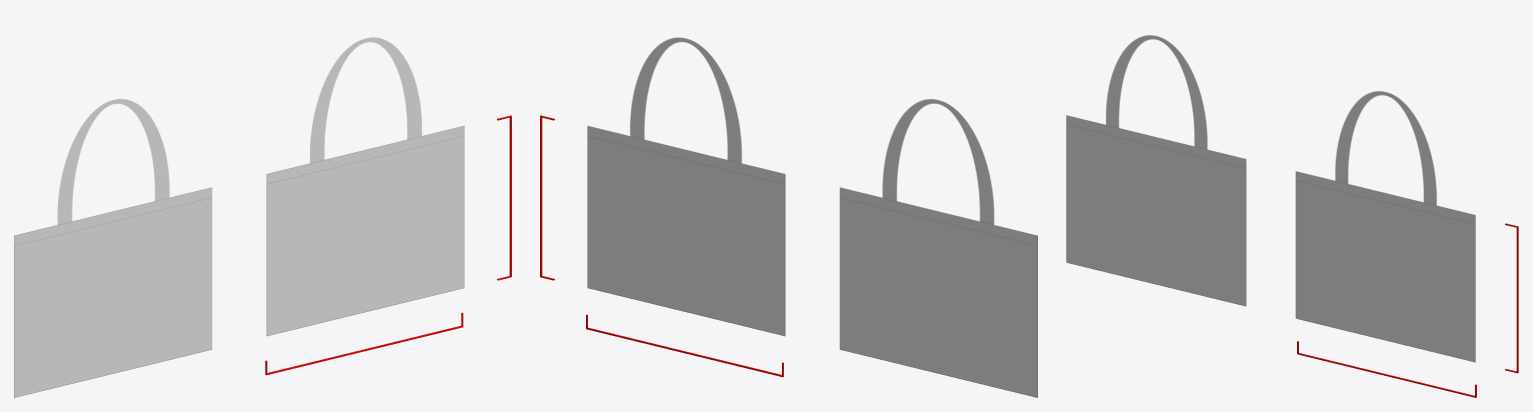
Rendered from 帆布袋-无底无侧.glb.
The picture shows the model from 3 angles, left to right: view 1: azimuth 30°, elevation 25°; view 2: azimuth 150°, elevation 25°; view 3: azimuth 330°, elevation 25°; orthographic projection. The views are drawn at different scales.
Parts seen in each view (by area): view 1: bag, w, h; view 2: bag, w, h; view 3: bag, w, h.
Part boxes in pixels (box(x1,y1,x2,y2)): bag: box(14, 37, 464, 397); w: box(265, 312, 463, 375); h: box(497, 115, 511, 280); bag: box(587, 37, 1037, 397); w: box(586, 314, 783, 377); h: box(540, 115, 554, 280); bag: box(1066, 35, 1475, 362); w: box(1297, 341, 1476, 397); h: box(1505, 223, 1518, 373).
Bounding box in the file's own units: 0.7512 × 0.4525 × 0.00545.
Materials: 2 (1 with a texture image).
